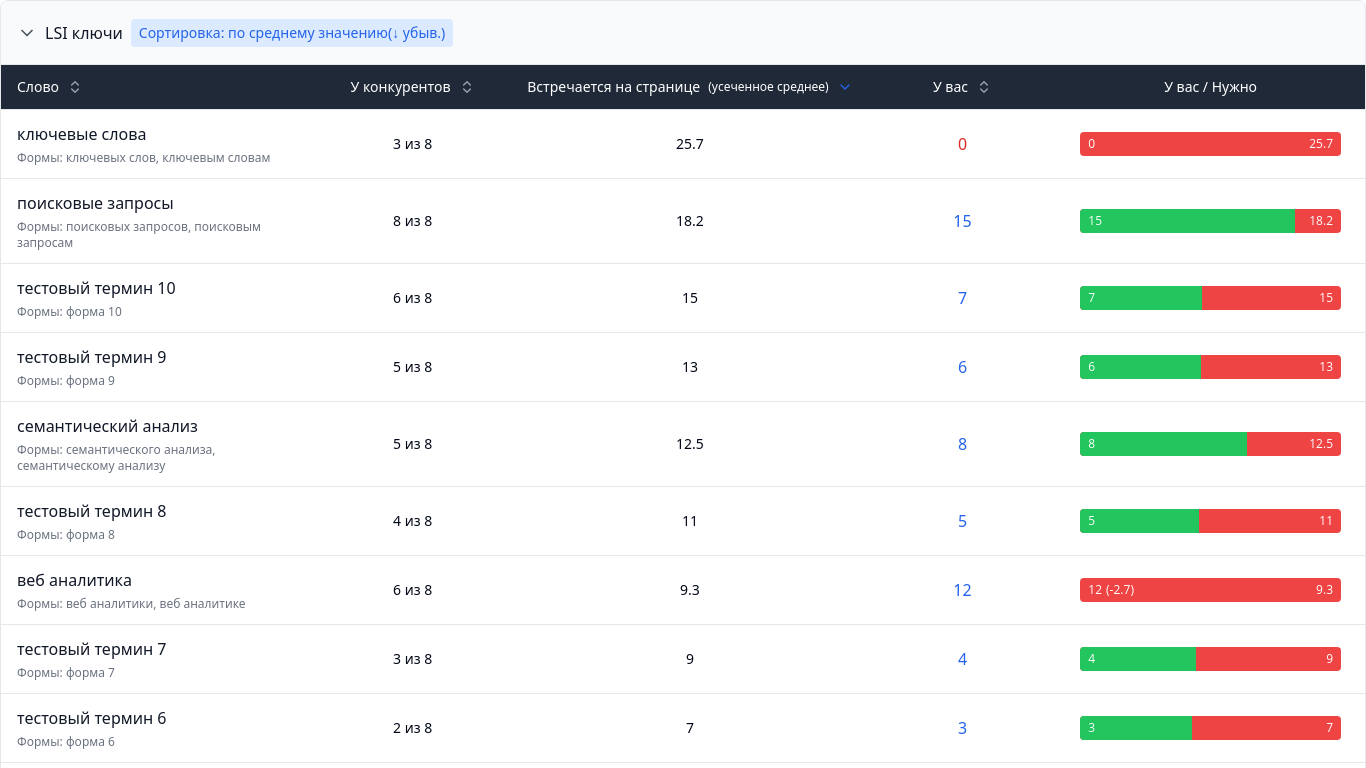
Test: LSITable › работает переключение видимости таблицы
Expected: the text "семантический анализ" is shown, [17, 415, 198, 437]
Click the button named "Свернуть" at point(27, 32), box [17, 22, 37, 42]
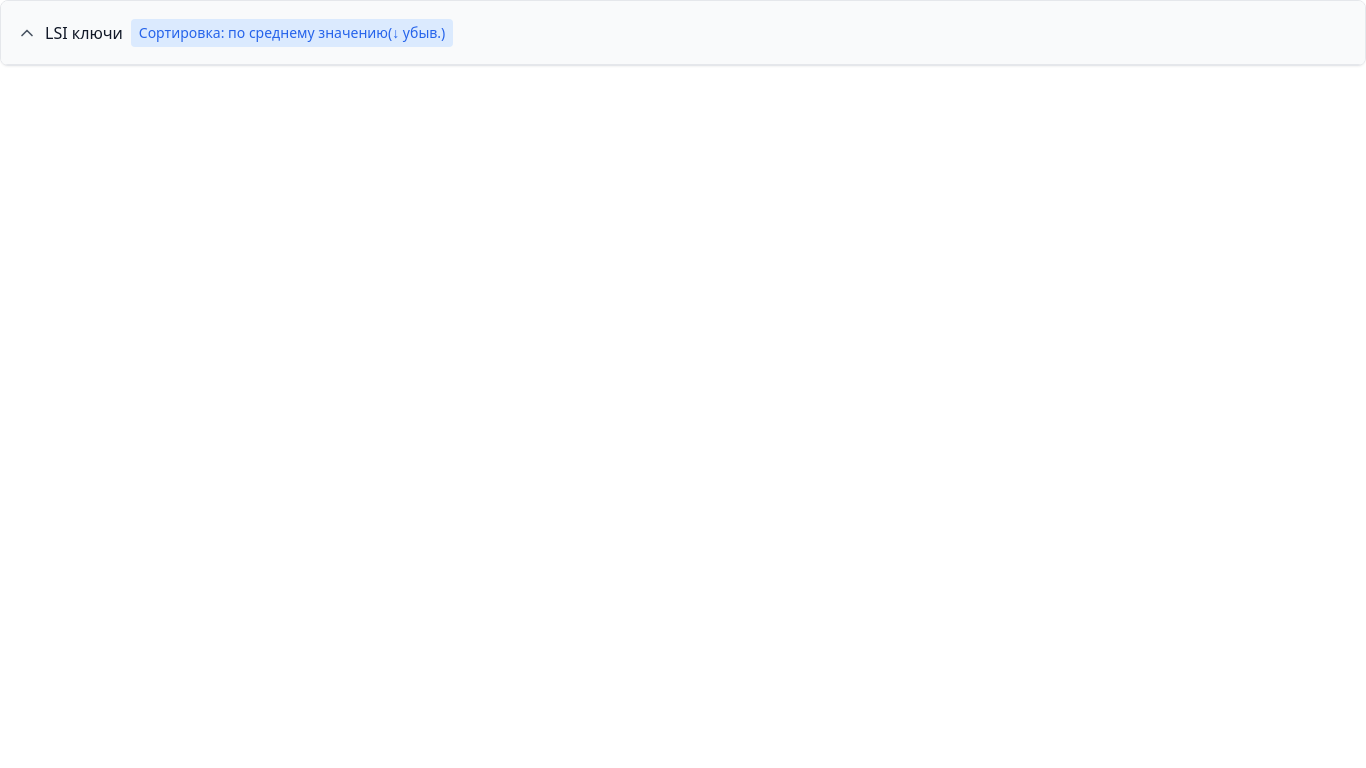
Now the text "семантический анализ" is gone
